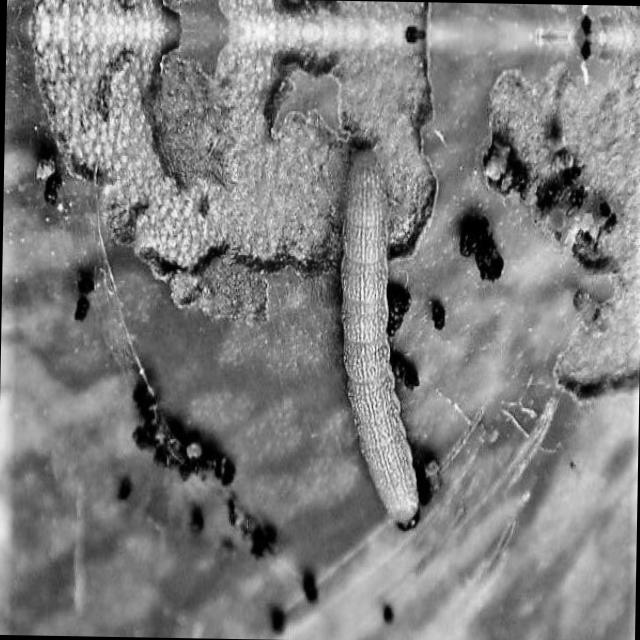Armyworm: (323, 132, 434, 536)
